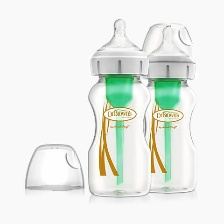bottle: (83, 65, 153, 198), (141, 75, 204, 196)
